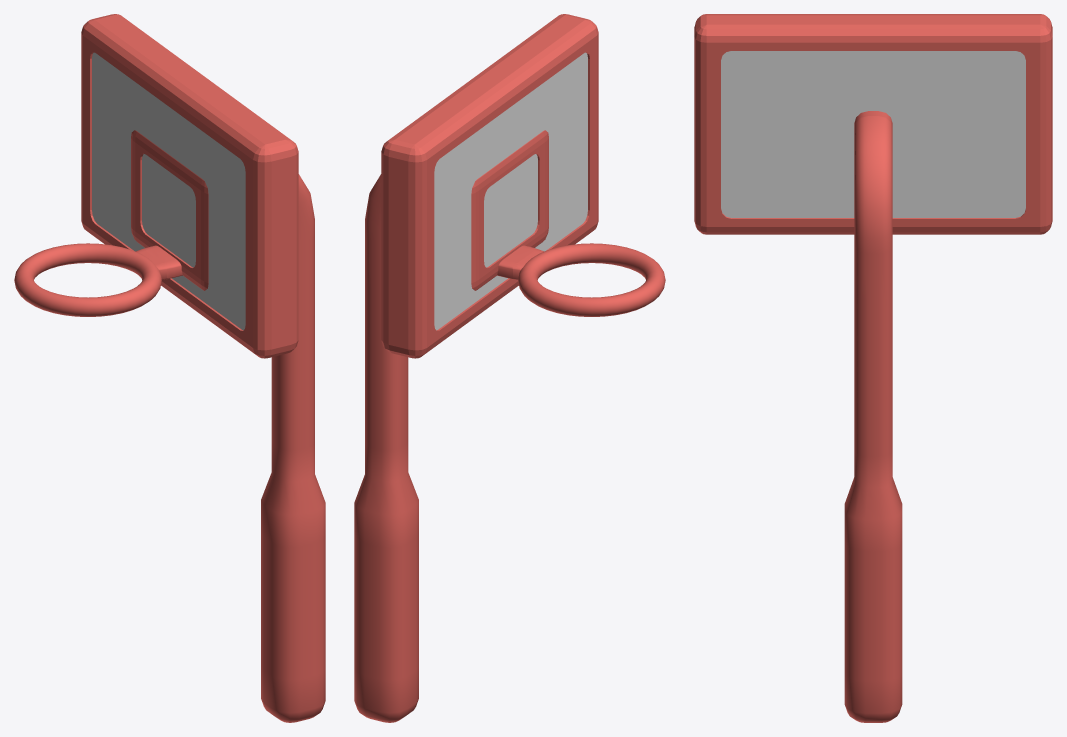
Rendered from pota.gltf.
3 views of the same model, side by side, from view 1: azimuth 30°, elevation 25°; view 2: azimuth 150°, elevation 25°; view 3: azimuth 270°, elevation 25° (orthographic). The views are drawn at different scales.
Parts seen in each view (by area): view 1: Pota-Arkasi, Basket, Pota; view 2: Pota-Arkasi, Basket, Pota; view 3: Pota-Arkasi, Basket.
Boxes of the visible parts, x1,y1,x2,y2 form: Pota-Arkasi: [81, 14, 298, 358]; Basket: [261, 174, 325, 722]; Pota: [14, 243, 167, 316]; Pota-Arkasi: [381, 14, 598, 358]; Basket: [354, 174, 418, 722]; Pota: [512, 243, 665, 316]; Pota-Arkasi: [694, 14, 1052, 234]; Basket: [844, 116, 902, 722].
Bounding box in the file's own units: 3.46 × 7.41 × 3.71.
